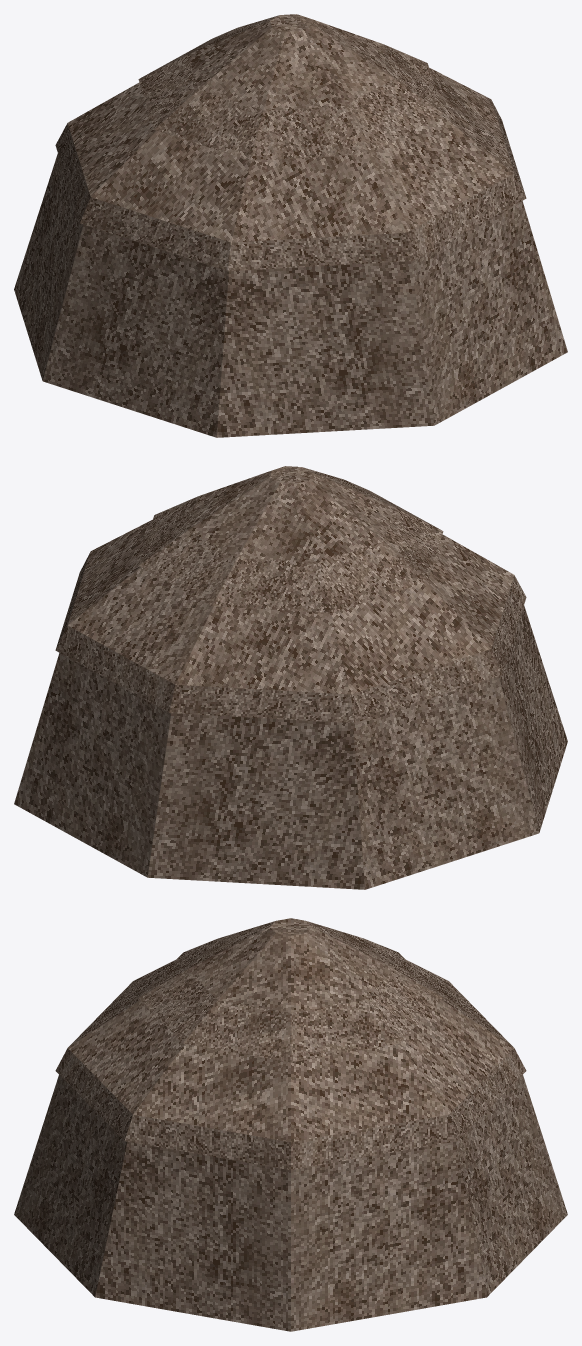
The model's file is hay_dry.glb.
The picture shows the model from 3 angles, top to bottom: view 1: azimuth 30°, elevation 25°; view 2: azimuth 150°, elevation 25°; view 3: azimuth 270°, elevation 25°; orthographic projection. The views are drawn at different scales.
Parts seen in each view (by area): view 1: hay_dry; view 2: hay_dry; view 3: hay_dry.
Part boxes in pixels (x1,y1,x2,y2): hay_dry: (14, 14, 567, 437); hay_dry: (14, 466, 567, 889); hay_dry: (14, 918, 567, 1331).
Bounding box in the file's own units: 4 × 2.29 × 4.
Materials: 1 (1 with a texture image).
